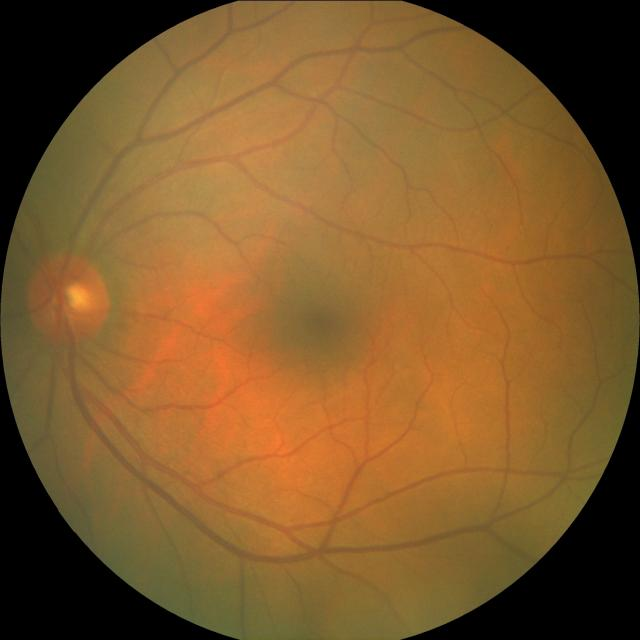OC: (56, 280, 94, 316)
OD: (30, 253, 111, 342)
